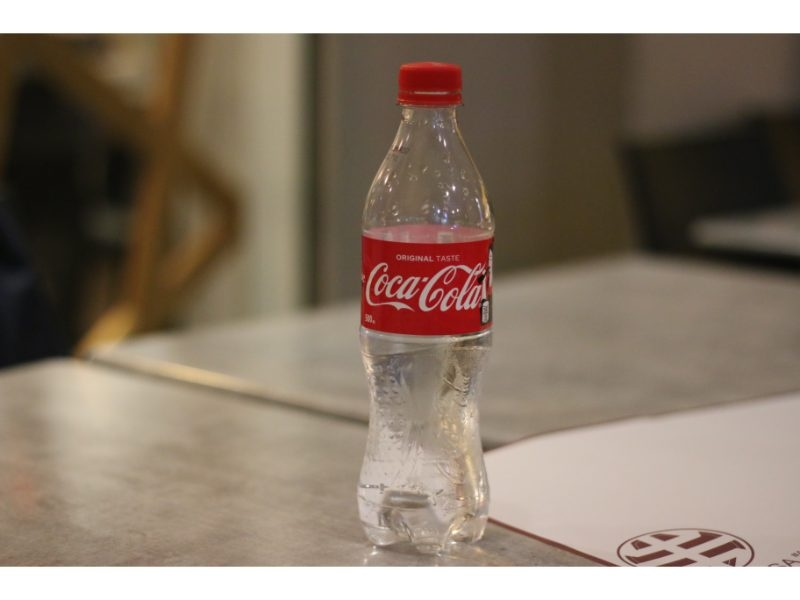PET #1: (357, 58, 493, 556)
